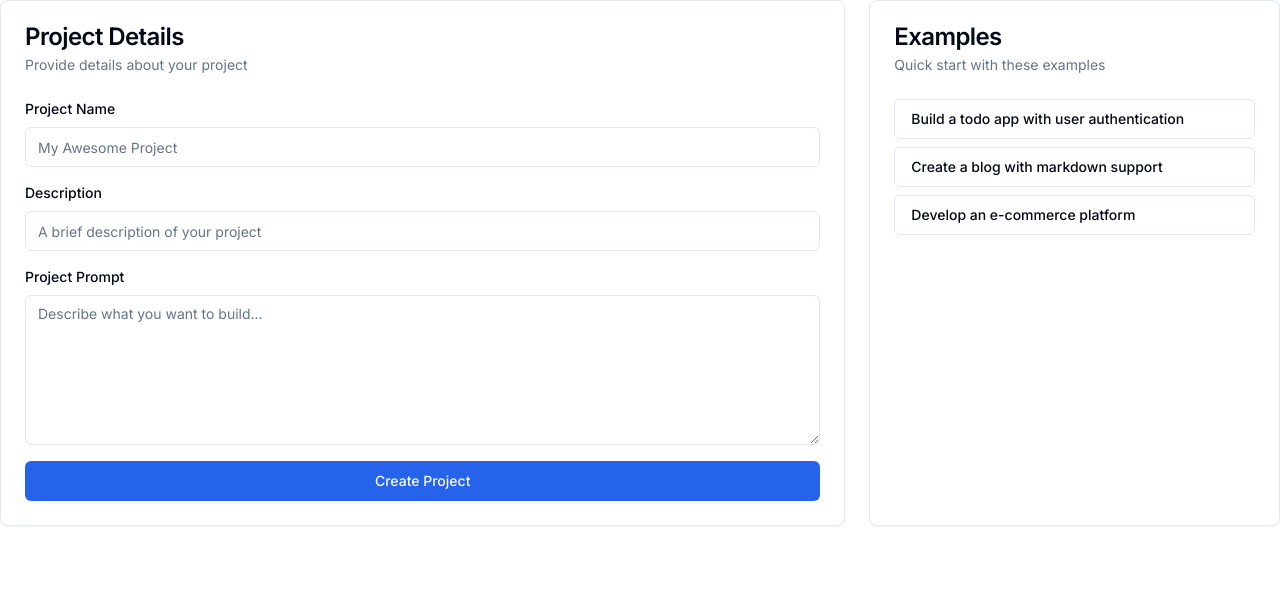
Scenario: PromptForm › shows validation errors
This screenshot has width=1280, height=615.
Click the button "Create Project": coordinates (423, 481) [25,461,820,501]
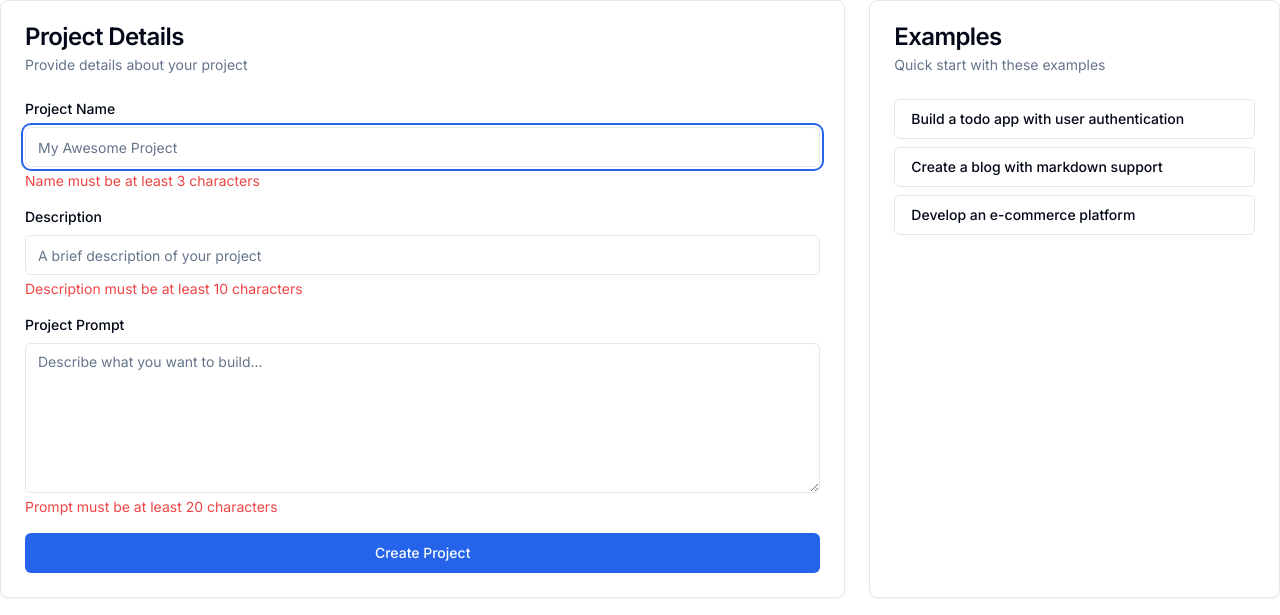
Expected: the text "Name must be at least 3 characters" is shown, [25,172,260,189]
